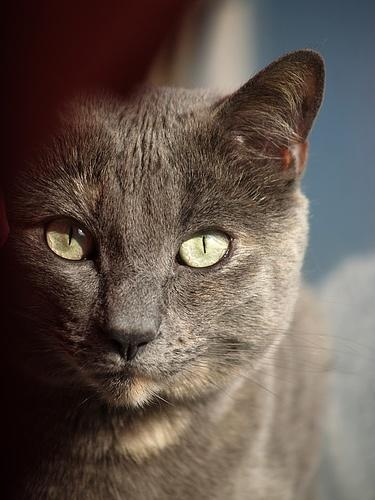cat: (1, 49, 341, 499)
